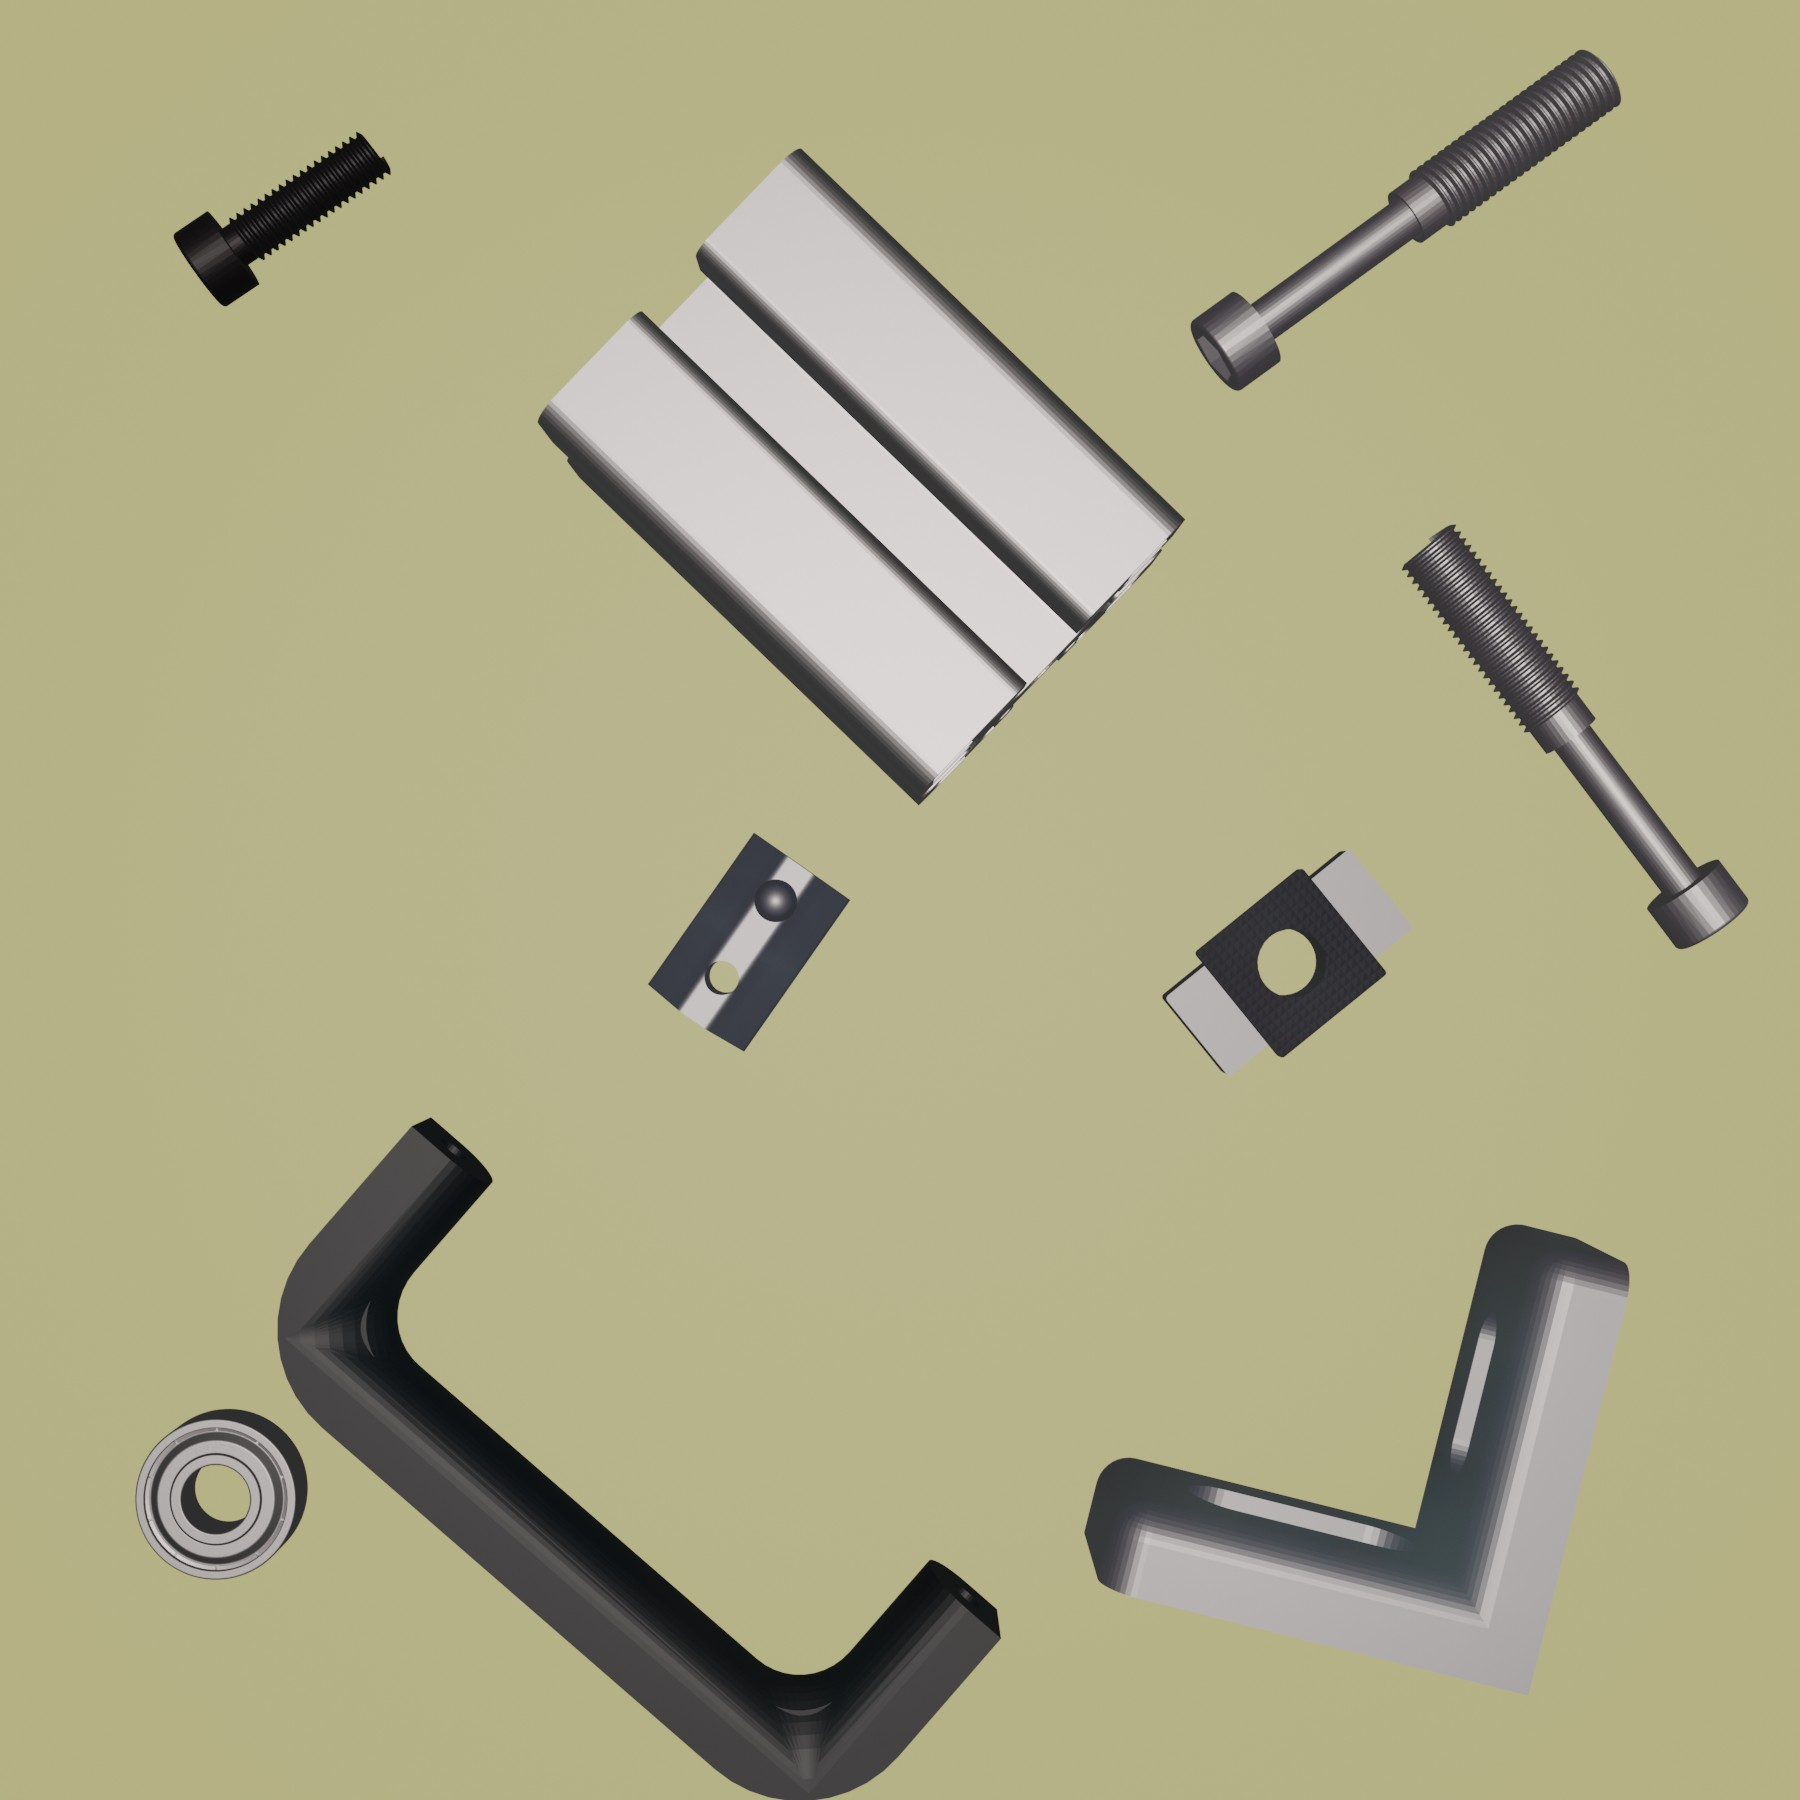Aluminium Extension: (536, 143, 1188, 808)
Ball Bearing: (132, 1404, 312, 1581)
Multiwinkel: (1081, 1220, 1629, 1699)
Pull Handle: (277, 1114, 1004, 1800)
Shoulder Socket Head Cap Screw: (1188, 45, 1624, 392), (1401, 523, 1751, 951)
Socket Head Cap Screw: (170, 127, 394, 312)
T Nut Square: (1159, 846, 1413, 1076)
T Spring Nut: (640, 827, 852, 1053)
